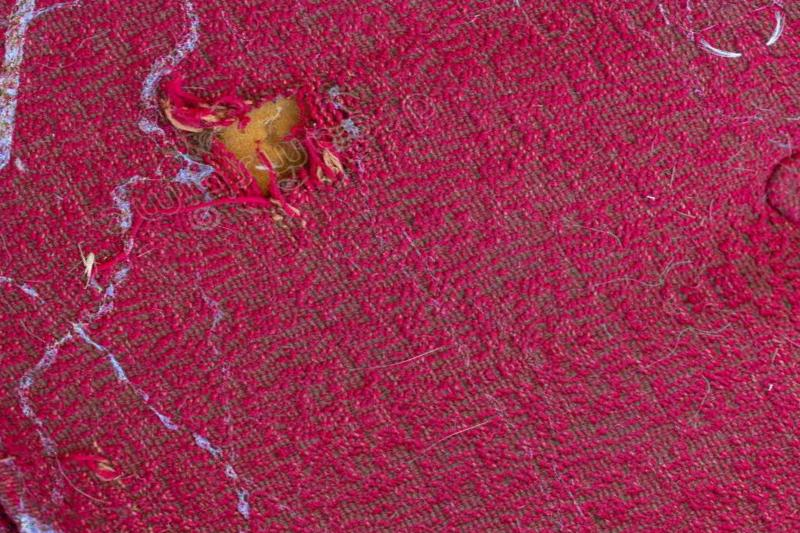hole: (203, 86, 329, 201)
